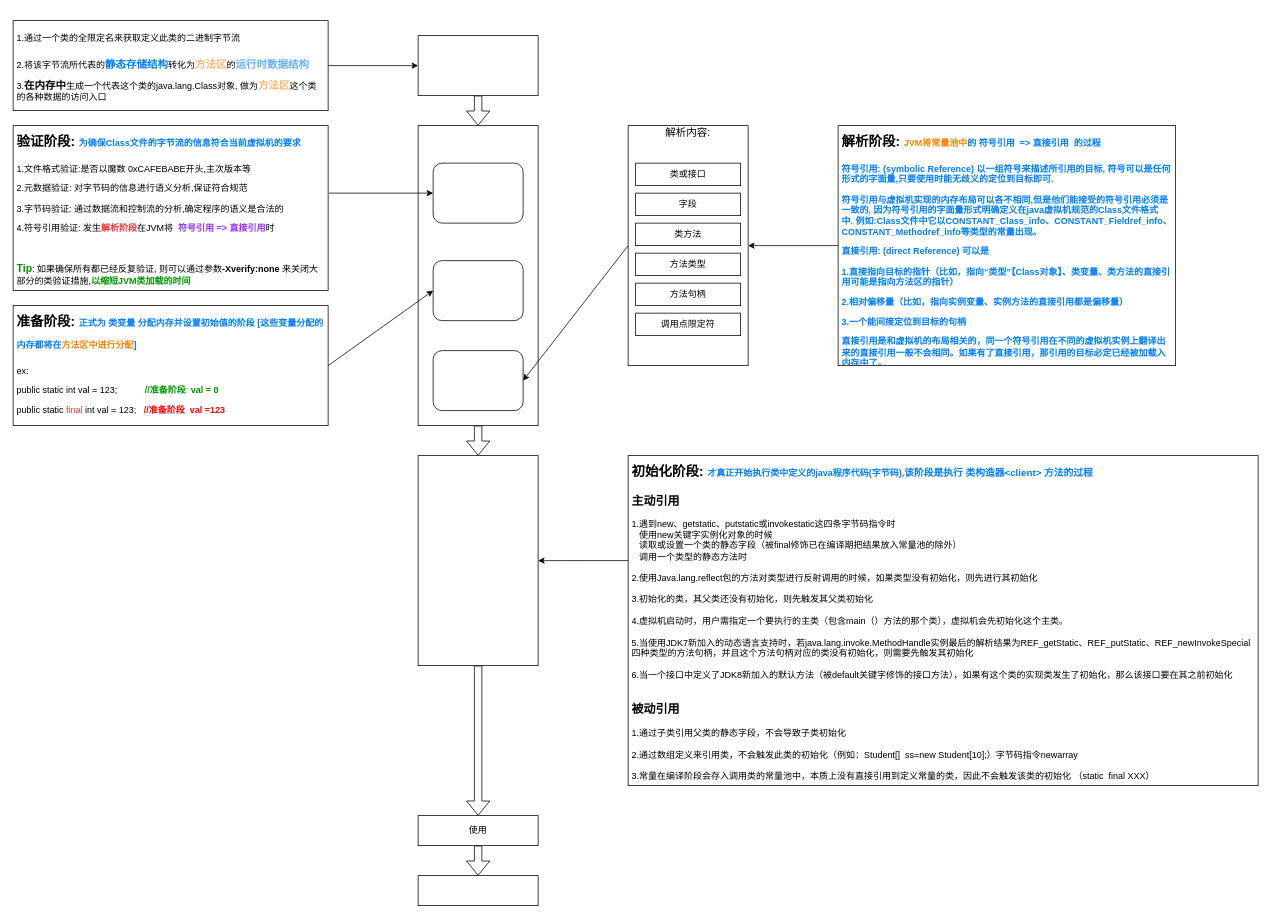
The diagram is 1271 pixels wide and 919 high, and some of its shapes have lost their labels. The shapes that lost their labels are listed below. From the top down, each one's centre as x and y in pixels, then its label:
At point 477,65: "加载 loading ( JVM中完成的内容 )".
At point 477,192: "验证 Verification".
At point 477,290: "准备 preparation".
At point 477,380: "解析 Resolution".
At point 477,560: "初始化".
At point 477,890: "卸载".
